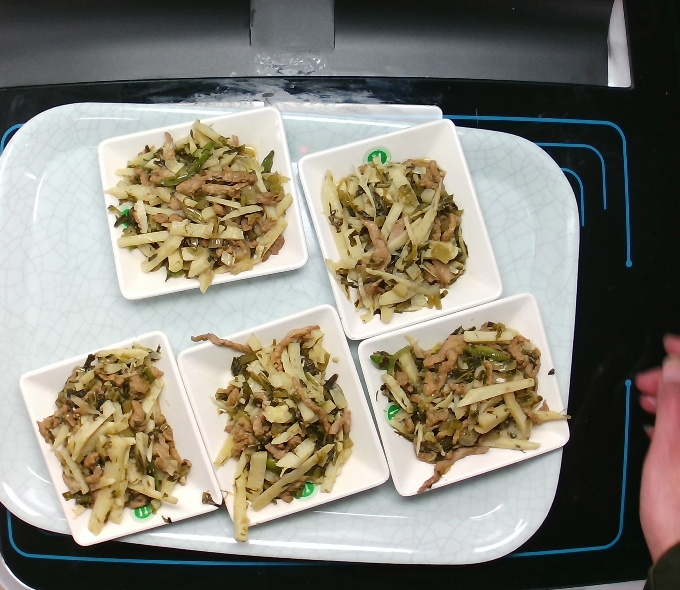wcq-RouSiDongSun: (371, 319, 577, 480), (33, 338, 197, 536), (200, 323, 356, 522), (107, 123, 291, 291), (317, 145, 467, 326)
